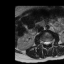CCS_normal: (46, 39, 48, 47)
LFS_normal: (50, 38, 52, 45)
LLS_normal: (48, 39, 50, 46)
RFS_normal: (42, 39, 44, 45)
RLS_normal: (44, 39, 46, 46)
